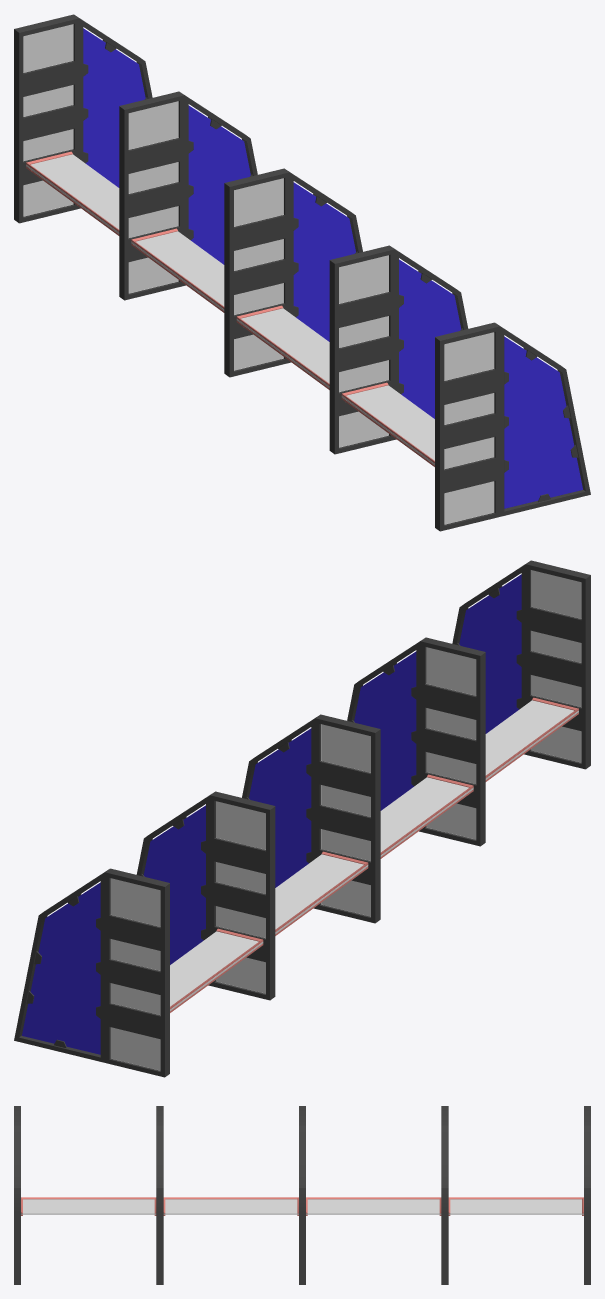
Rendered from Range.fbx.
3 views of the same model, one above another, from view 1: azimuth 30°, elevation 25°; view 2: azimuth 150°, elevation 25°; view 3: azimuth 270°, elevation 25° (orthographic). The views are drawn at different scales.
Visible parts, largest first — view 1: Cube.003; view 2: Cube.003; view 3: Cube.003.
Boxes of the visible parts, x1,y1,x2,y2 form: Cube.003: [14, 14, 590, 531]; Cube.003: [14, 560, 590, 1077]; Cube.003: [14, 1106, 590, 1284].
Size of the model in its own units: 166 by 200 by 810.
